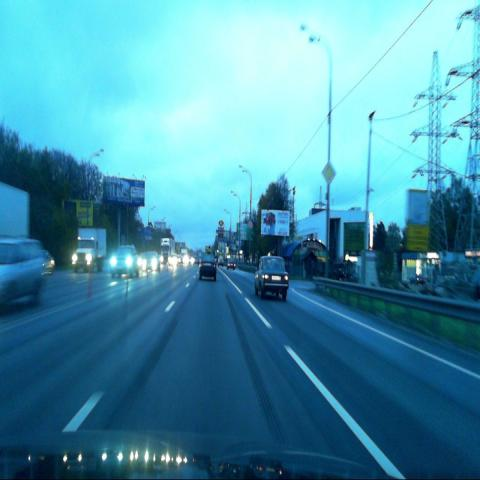2_1: (322, 160, 336, 185)
